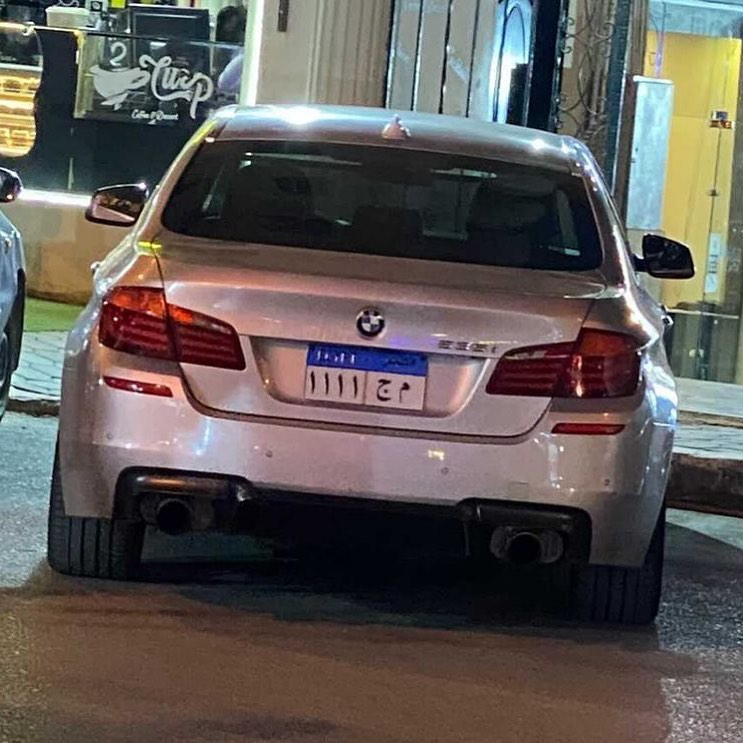carpl: (302, 359, 424, 409)
